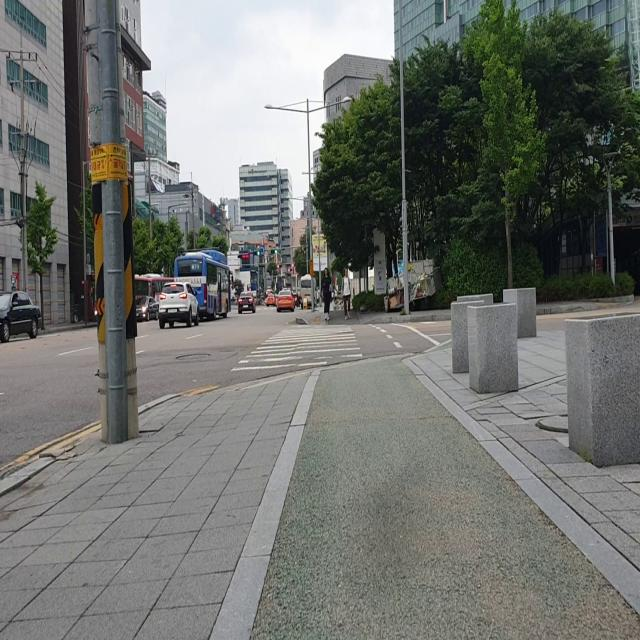횡단보도: (230, 323, 363, 373)
